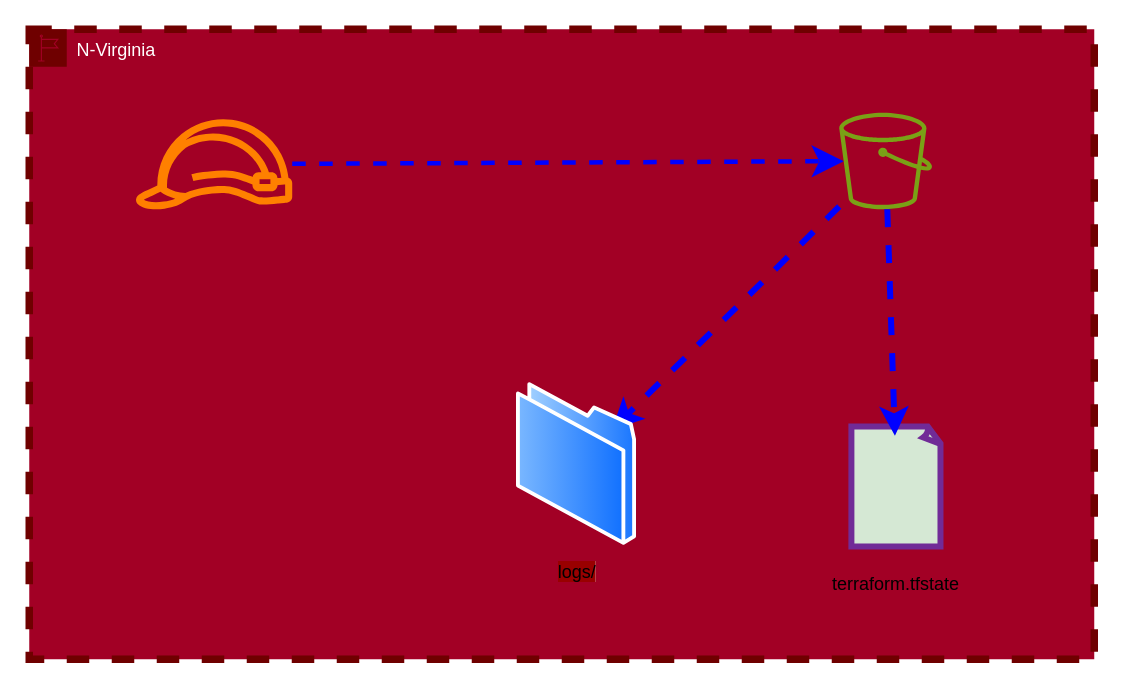
The diagram is 1124 pixels wide and 689 high, and some of its shapes have lost their labels. Here are the shapes that lost their labels. From the top down, the centre of each, then its label:
At point 213,163: "iam role for _upload_logs_".
At point 884,160: "task2-s3bucket-123".
